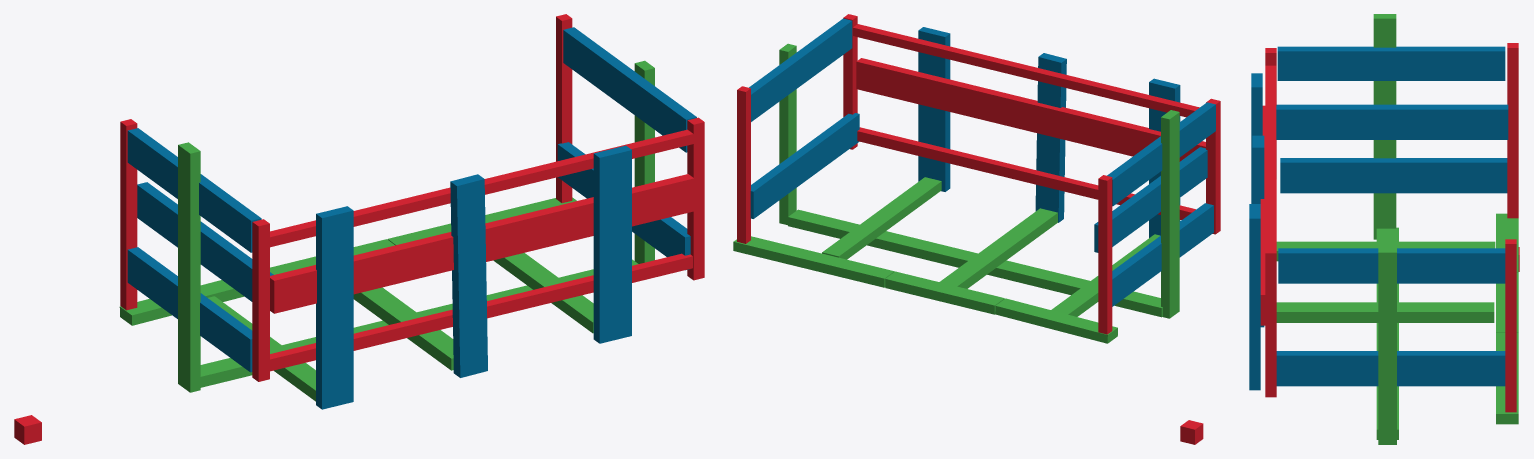
The model's file is tinker.obj.
The picture shows the model from 3 angles, left to right: view 1: azimuth 30°, elevation 25°; view 2: azimuth 150°, elevation 25°; view 3: azimuth 270°, elevation 25°; orthographic projection. The views are drawn at different scales.
Parts seen in each view (by area): view 1: group_0_30377, group_0_15277357, group_0_4634441; view 2: group_0_15277357, group_0_4634441, group_0_30377; view 3: group_0_30377, group_0_4634441, group_0_15277357.
Part boxes in pixels (bbox=[...]): group_0_30377: bbox=[127, 27, 696, 409]; group_0_15277357: bbox=[14, 14, 704, 444]; group_0_4634441: bbox=[119, 60, 654, 401]; group_0_15277357: bbox=[737, 14, 1220, 444]; group_0_4634441: bbox=[733, 43, 1179, 343]; group_0_30377: bbox=[749, 18, 1215, 306]; group_0_30377: bbox=[1249, 46, 1508, 390]; group_0_4634441: bbox=[1276, 14, 1518, 444]; group_0_15277357: bbox=[1260, 43, 1519, 412].
Size of the model in its own units: 645 by 347 by 289.
